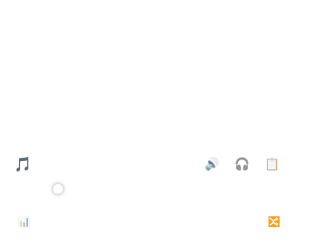
it: MusicPlayer.vue › 紧凑浮层也有显式 ✕，关闭后不再显示列表
This screenshot has width=333, height=244.
Click the button with class "music-playlist-btn".
click(272, 163)  # box [260,151,284,175]
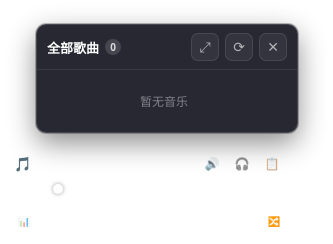
Result: the element with class "music-list" is shown at [36,24,298,133]
Click the button with class "music-list__btn--close".
click(273, 47)  # box [259,33,287,61]
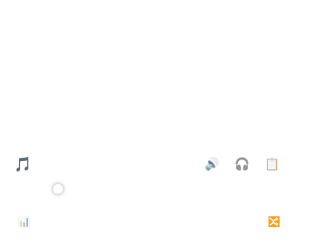
Result: the element with class "music-list" is gone
